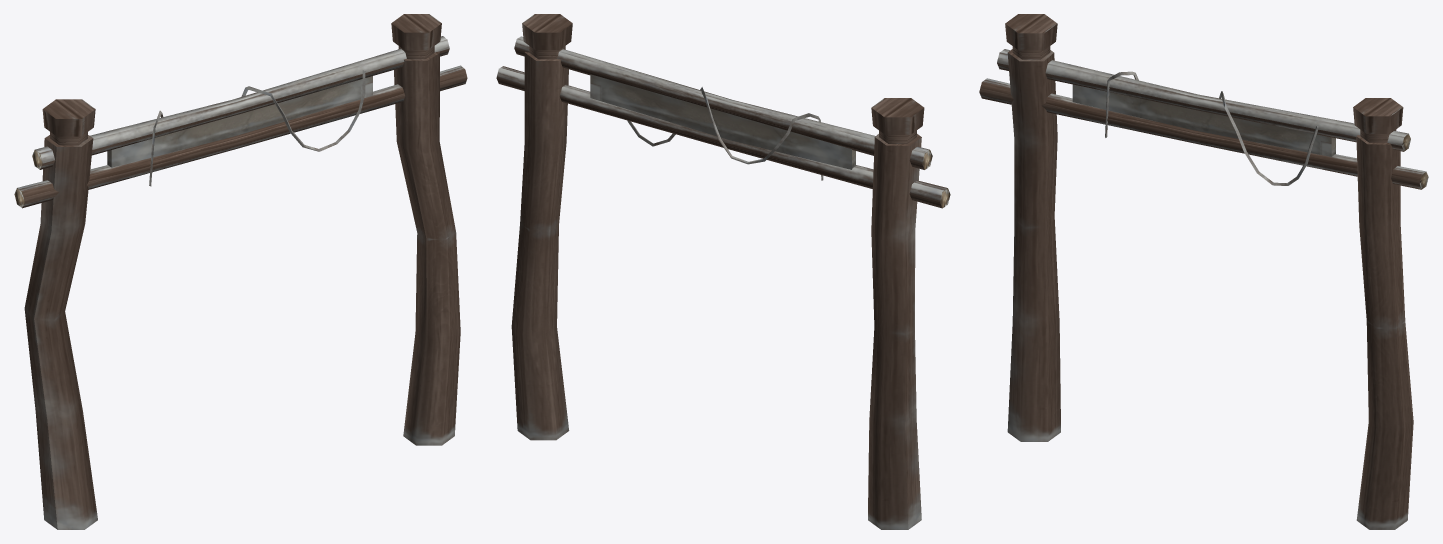
Rendered from snow_a_n02.fbx.
3 renders of one model, left to right at view 1: azimuth 30°, elevation 25°; view 2: azimuth 150°, elevation 25°; view 3: azimuth 330°, elevation 25°, orthographic.
Visible parts, largest first — view 1: snow_a_n02; view 2: snow_a_n02; view 3: snow_a_n02.
Part boxes in pixels (x1,y1,x2,y2): snow_a_n02: (14,14,467,529); snow_a_n02: (496,14,950,529); snow_a_n02: (979,14,1428,529).
Bounding box in the file's own units: 831 × 737 × 127.
